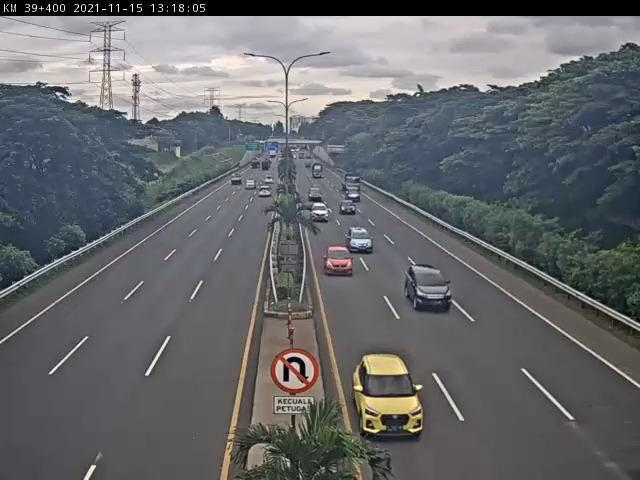car: (353, 356, 426, 440), (407, 265, 456, 314), (324, 247, 355, 277), (348, 225, 375, 255), (309, 203, 331, 224)
